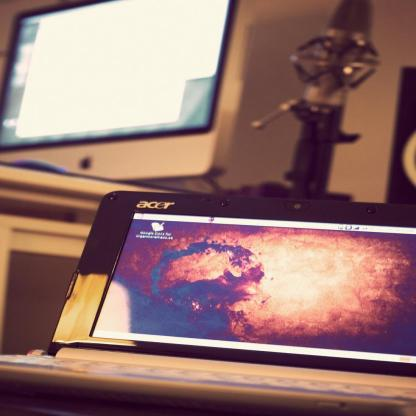board: (31, 146, 394, 402)
